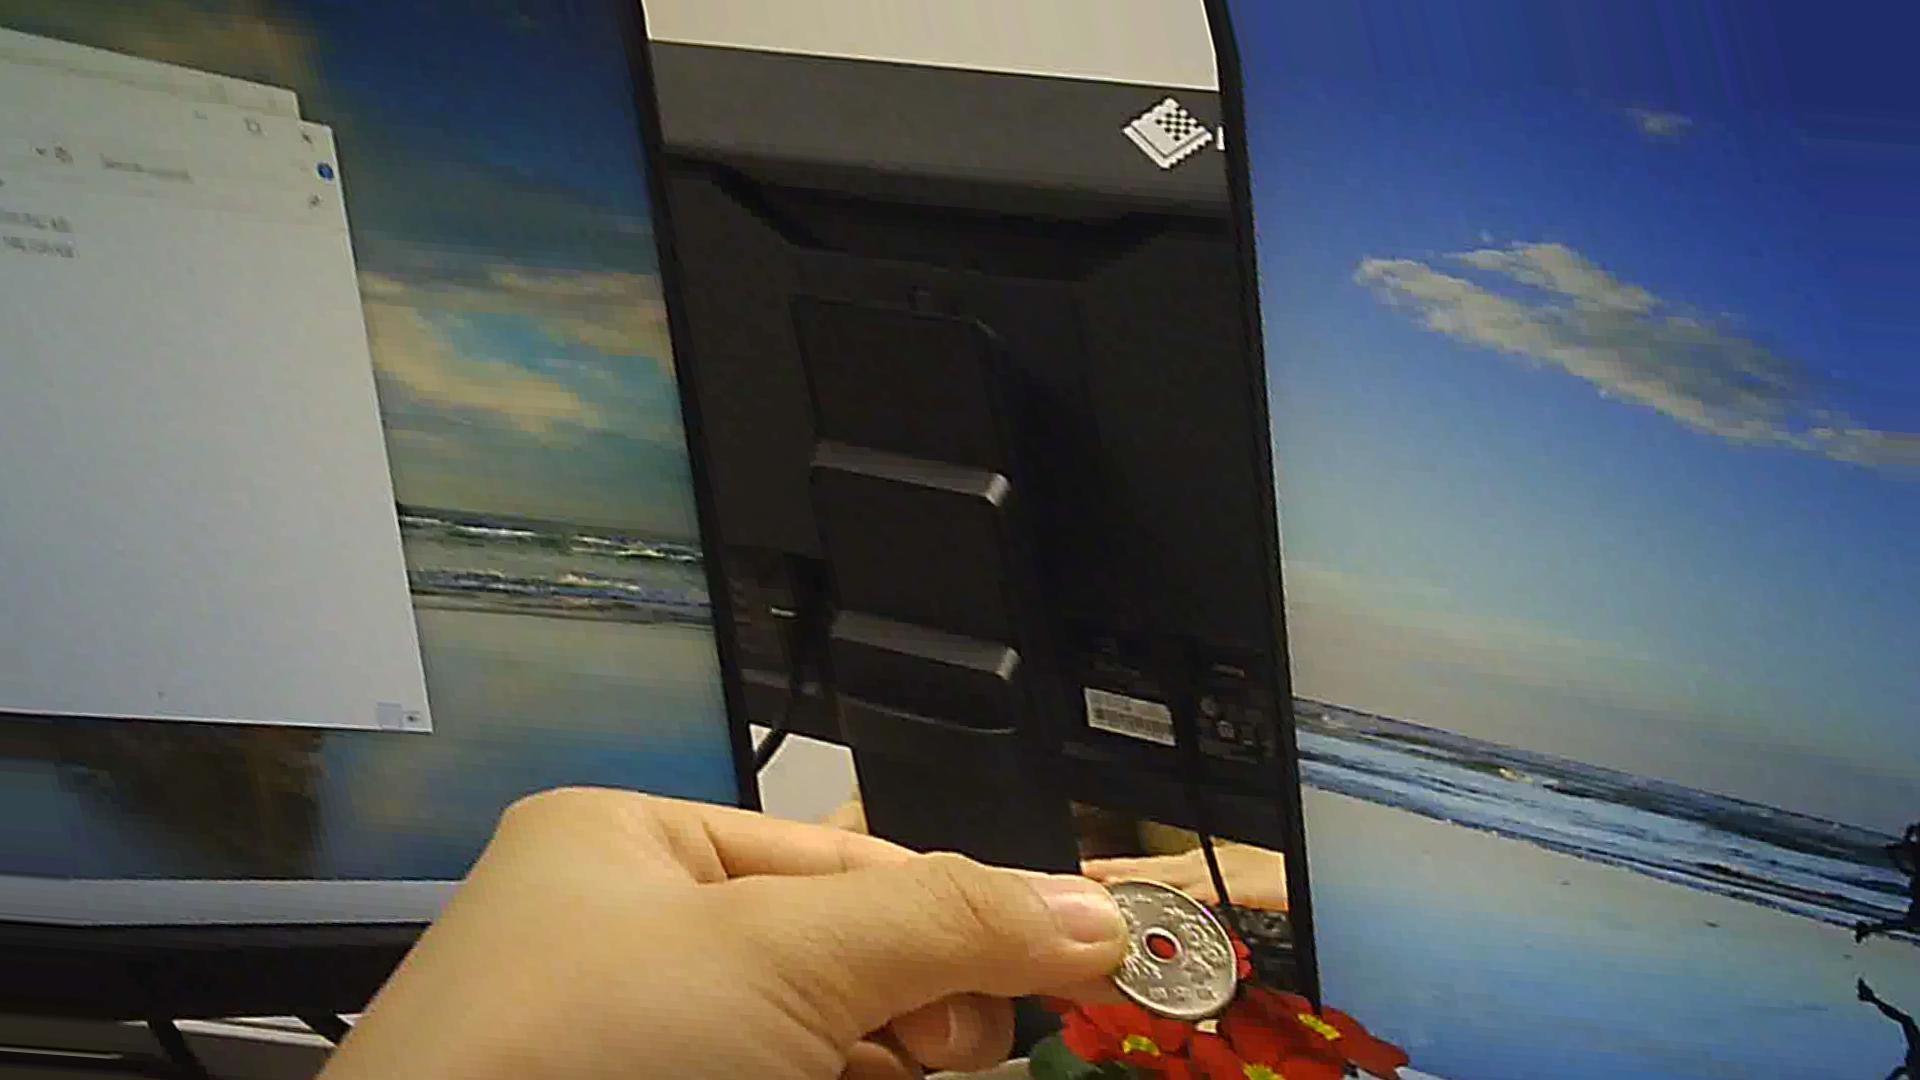50 Yen: (1101, 869, 1246, 1025)
